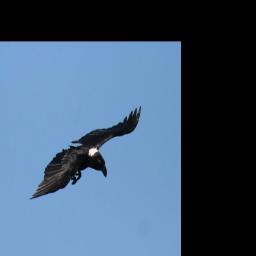Crow: (29, 104, 142, 200)
